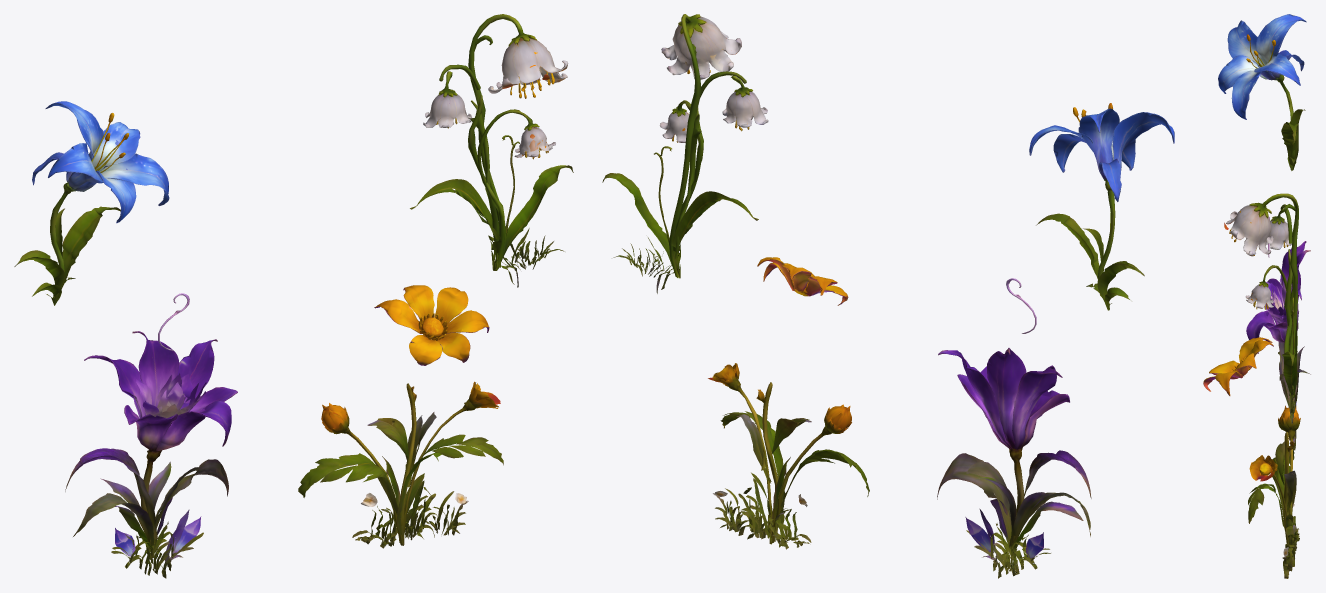
The model's file is blumen_original.glb.
3 renders of one model, left to right at view 1: azimuth 30°, elevation 25°; view 2: azimuth 150°, elevation 25°; view 3: azimuth 270°, elevation 25°, orthographic. The views are drawn at different scales.
Visible parts, largest first — view 1: geometry_0; view 2: geometry_0; view 3: geometry_0.
Part boxes in pixels (bbox=[...]): geometry_0: bbox=[14, 14, 573, 578]; geometry_0: bbox=[602, 14, 1174, 578]; geometry_0: bbox=[1203, 14, 1310, 578].
Bounding box in the file's own units: 0.9526 × 0.8579 × 0.2041.
Materials: 1 (1 with a texture image).
